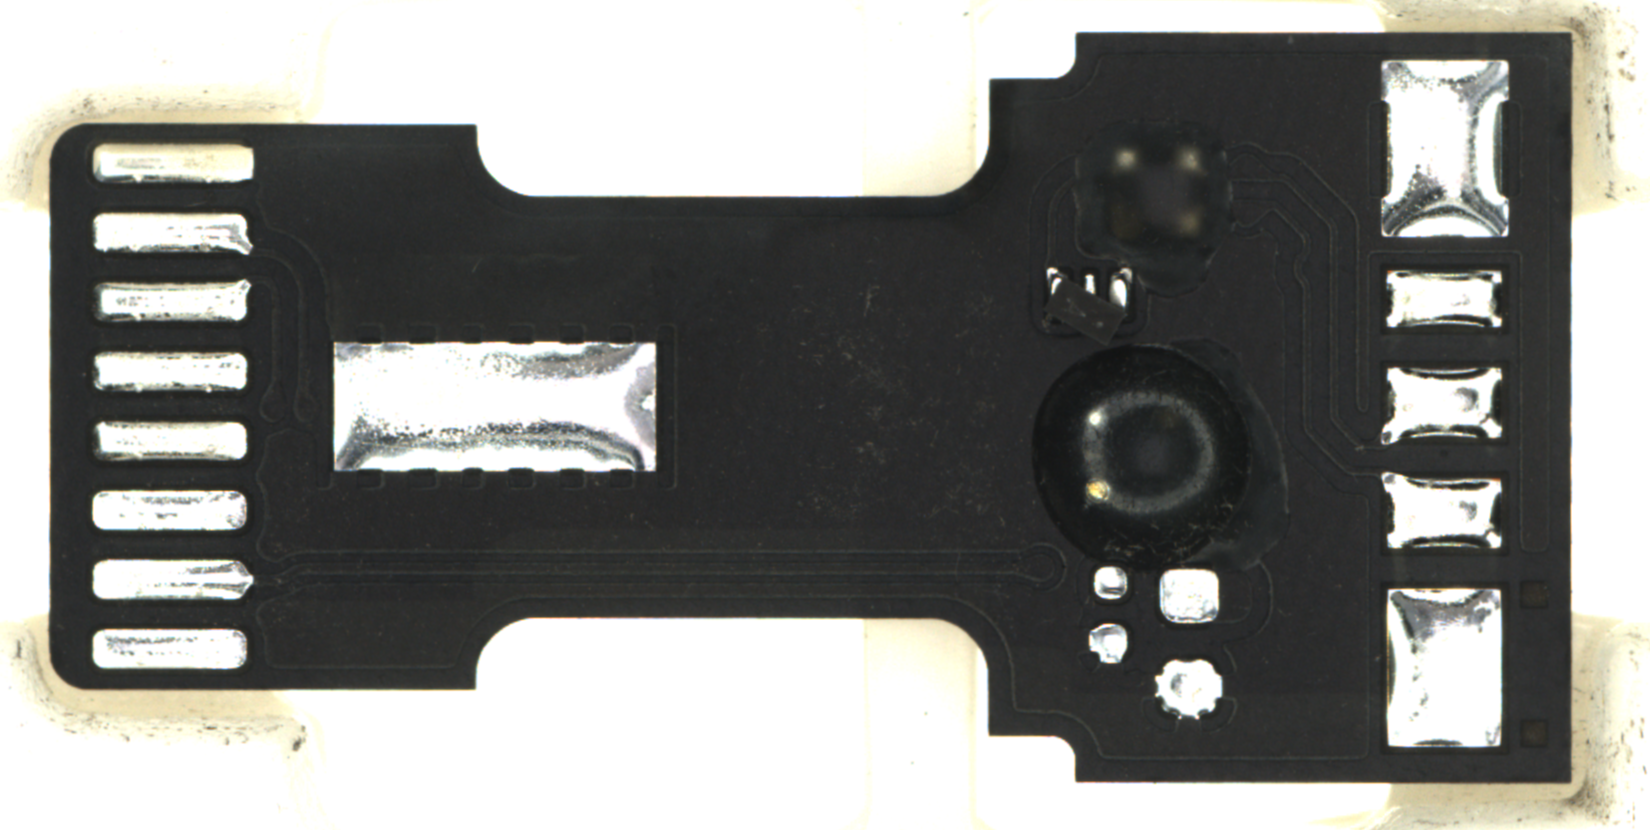d1_missing: (1035, 260, 1146, 350)
l1_dirty: (1103, 138, 1214, 247)
object: (308, 300, 702, 506)
smt_missing: (1152, 563, 1230, 727), (1085, 561, 1134, 672)
u2_damage: (1025, 344, 1261, 564)
